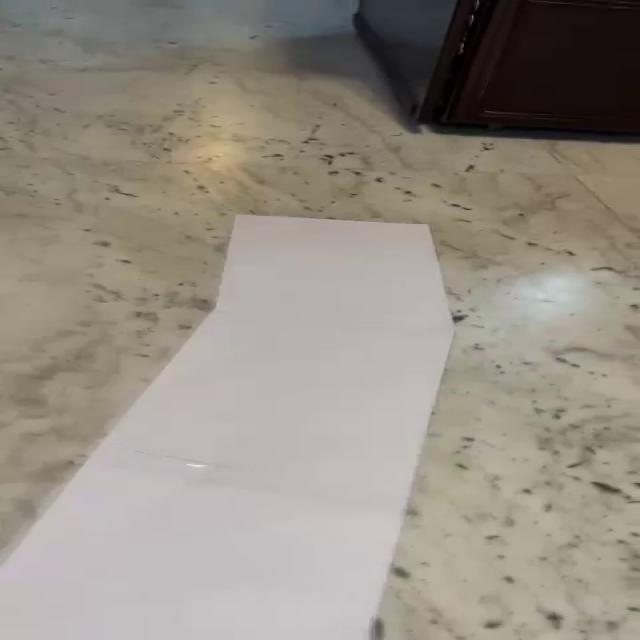road: (1, 217, 452, 640)
